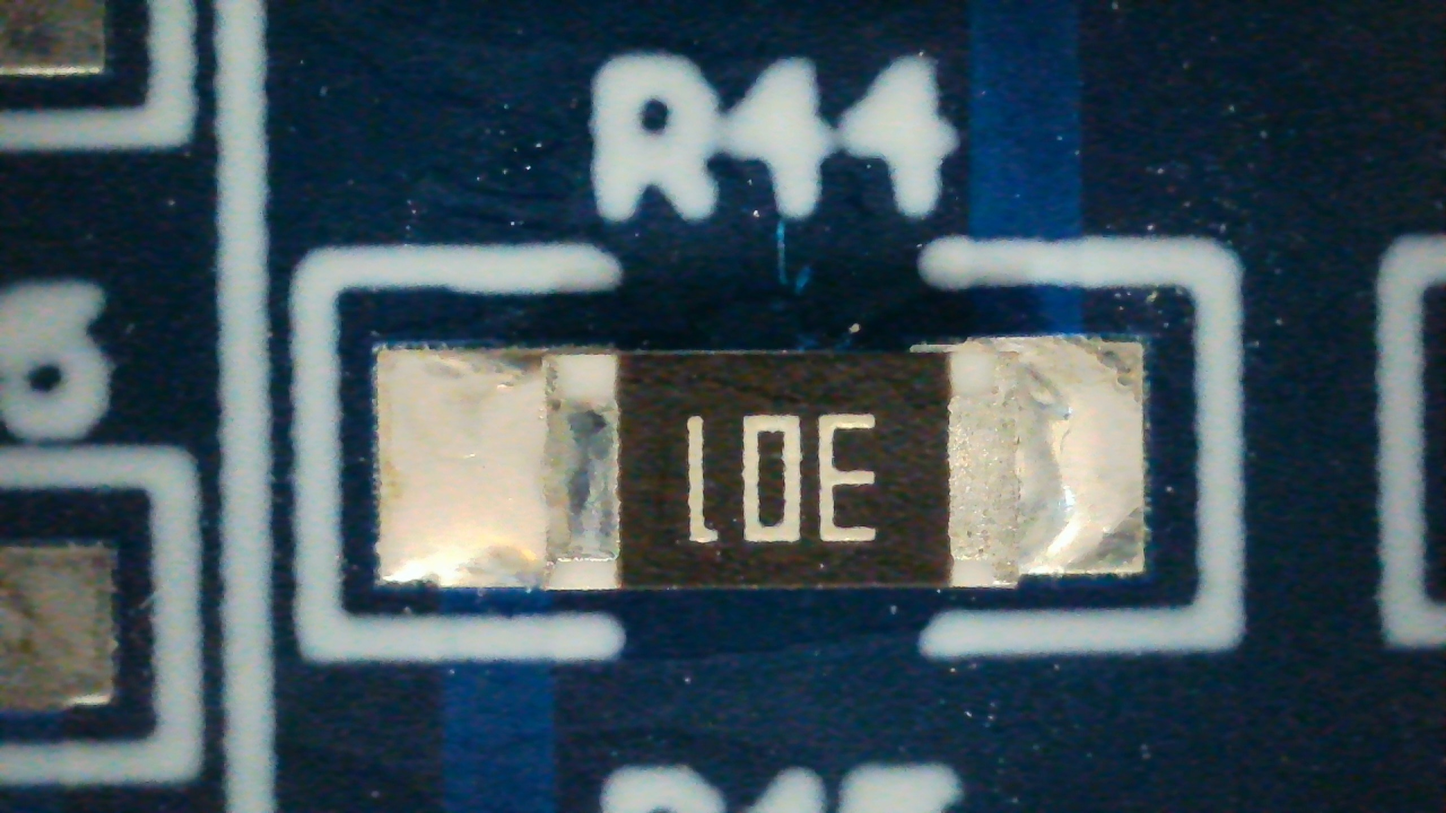OK: (377, 343, 1145, 588)
